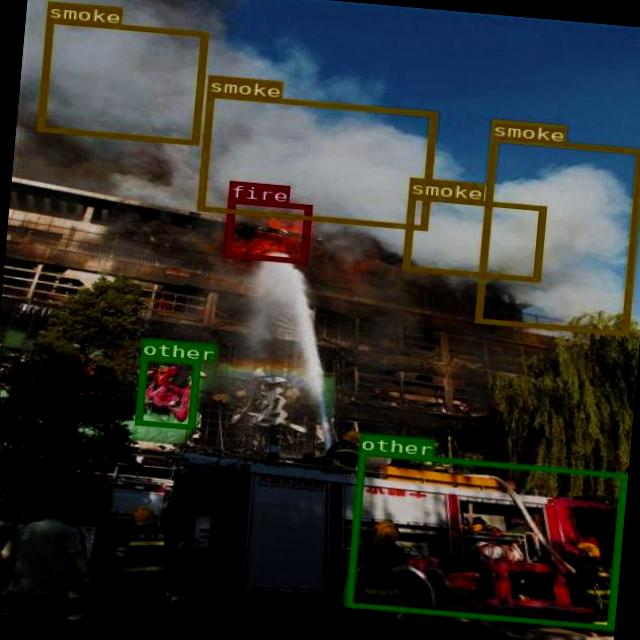fire: (222, 197, 310, 263)
smoke: (473, 135, 640, 335), (196, 91, 435, 230), (36, 17, 206, 143), (400, 193, 544, 281)
